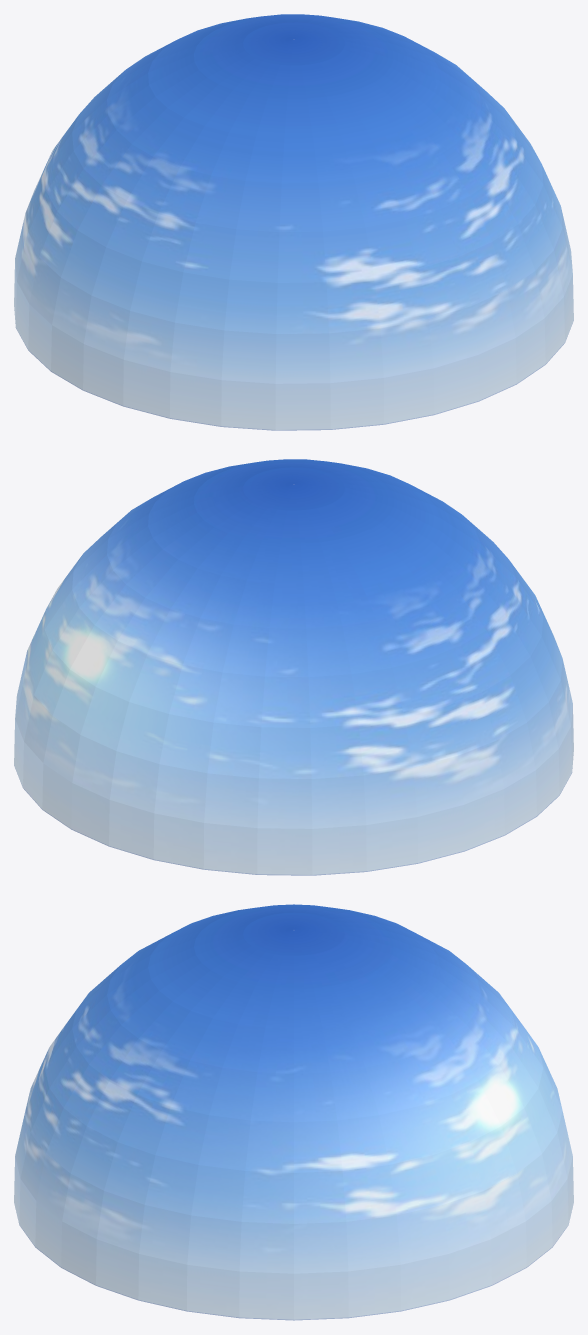
Rendered from lugar-marsella-ciudad.glb.
3 views of the same model, one above another, from view 1: azimuth 30°, elevation 25°; view 2: azimuth 150°, elevation 25°; view 3: azimuth 270°, elevation 25° (orthographic).
Visible parts, largest first — view 1: planoC; view 2: planoC; view 3: planoC.
Part boxes in pixels (<box>): planoC: <box>14,14,573,430</box>; planoC: <box>14,459,573,875</box>; planoC: <box>14,904,573,1320</box>.
Bounding box in the file's own units: 6384 × 3423 × 6384.
Materials: 34 (18 with a texture image).
